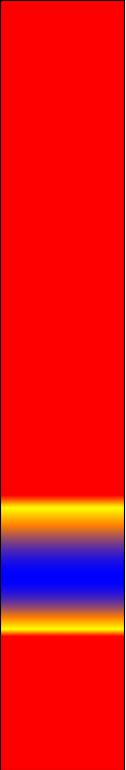Thermal Runaway: (8, 10, 115, 526), (5, 623, 121, 766)
critical: (4, 610, 118, 618)
safe: (5, 539, 122, 603)
